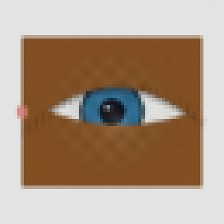pinguecula_lesion: (17, 94, 67, 134)
